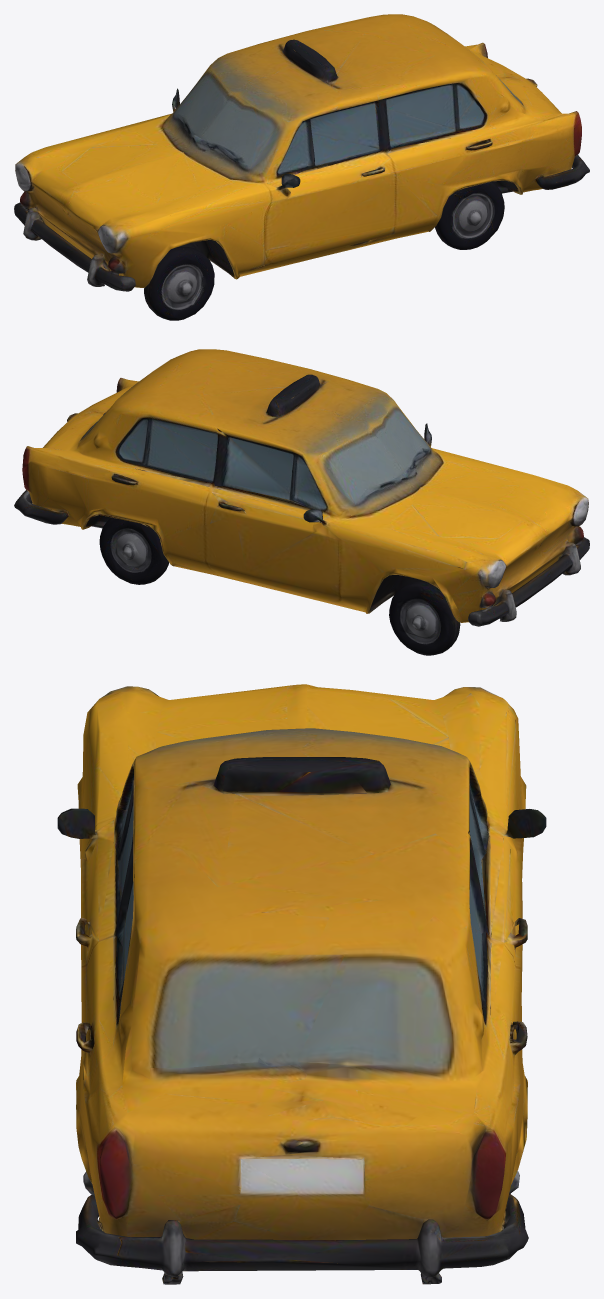
File: taxi.glb
3 renders of one model, top to bottom at view 1: azimuth 30°, elevation 25°; view 2: azimuth 150°, elevation 25°; view 3: azimuth 270°, elevation 25°, orthographic. The views are drawn at different scales.
Bounding box in the file's own units: 1.9 × 0.6978 × 0.8188.
1 material, 1 textured.
